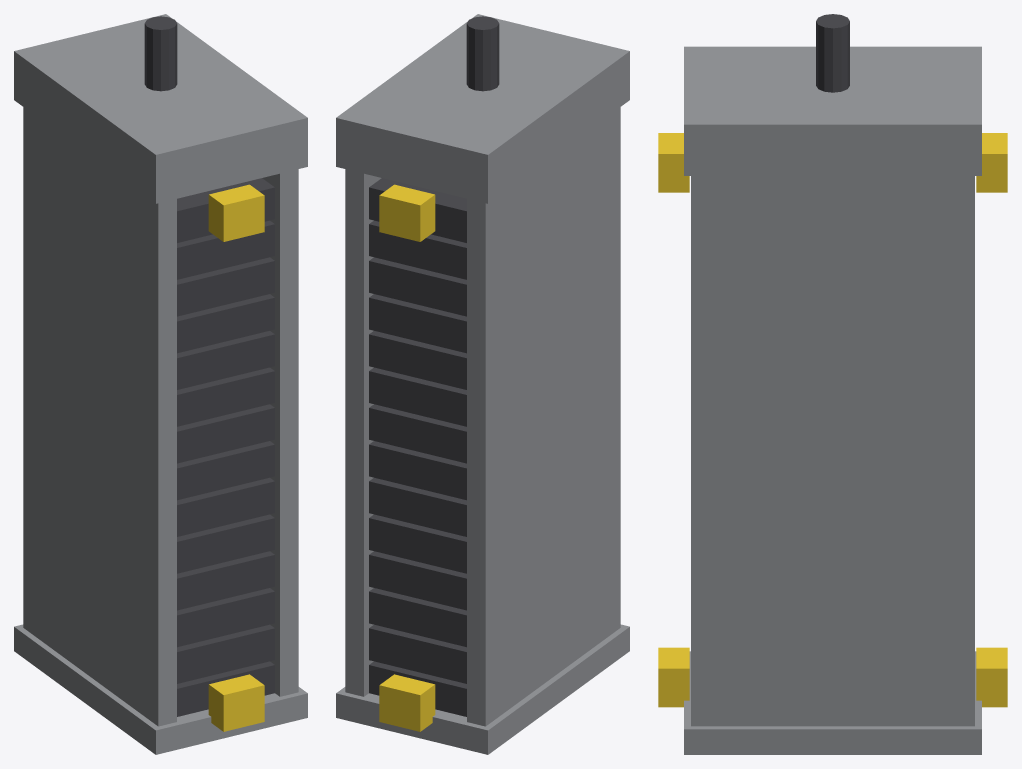
Rendered from EQ_CageCounterweight.glb.
3 views of the same model, side by side, from view 1: azimuth 30°, elevation 25°; view 2: azimuth 150°, elevation 25°; view 3: azimuth 270°, elevation 25° (orthographic). The views are drawn at different scales.
Parts seen in each view (by area): view 1: CW_Body; view 2: CW_Body; view 3: CW_Body.
Part boxes in pixels (x1=…): CW_Body: x1=14, y1=14, x2=307, y2=754; CW_Body: x1=336, y1=14, x2=629, y2=754; CW_Body: x1=658, y1=14, x2=1007, y2=754.
Size of the model in its own units: 1.3 by 5.4 by 2.46.
